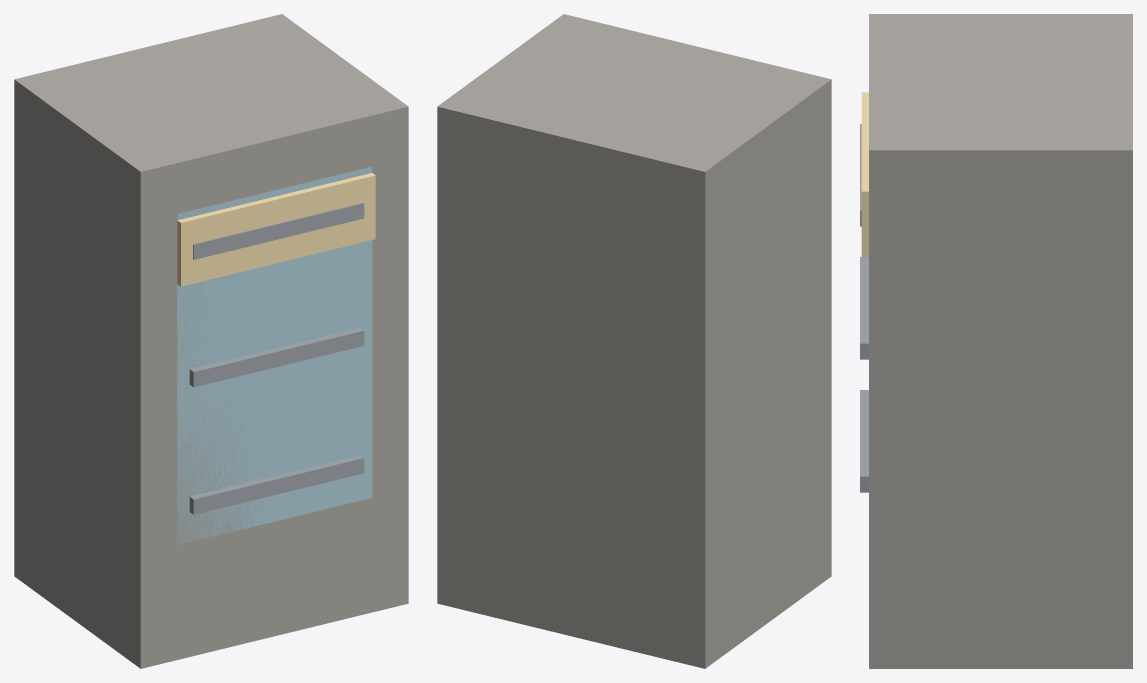
File: PRP_Vending.fbx
3 views of the same model, side by side, from view 1: azimuth 30°, elevation 25°; view 2: azimuth 150°, elevation 25°; view 3: azimuth 270°, elevation 25° (orthographic). The views are drawn at different scales.
Parts seen in each view (by area): view 1: PRP_Vending__COL_Main, PRP_Vending__BODY; view 2: PRP_Vending__COL_Main; view 3: PRP_Vending__COL_Main, PRP_Vending__BODY.
Boxes of the visible parts, x1,y1,x2,y2 form: PRP_Vending__COL_Main: (14, 14, 408, 668); PRP_Vending__BODY: (177, 166, 375, 544); PRP_Vending__COL_Main: (437, 14, 831, 668); PRP_Vending__COL_Main: (869, 14, 1132, 668); PRP_Vending__BODY: (860, 92, 868, 492).
Bounding box in the file's own units: 1.1 × 1.95 × 0.93.
